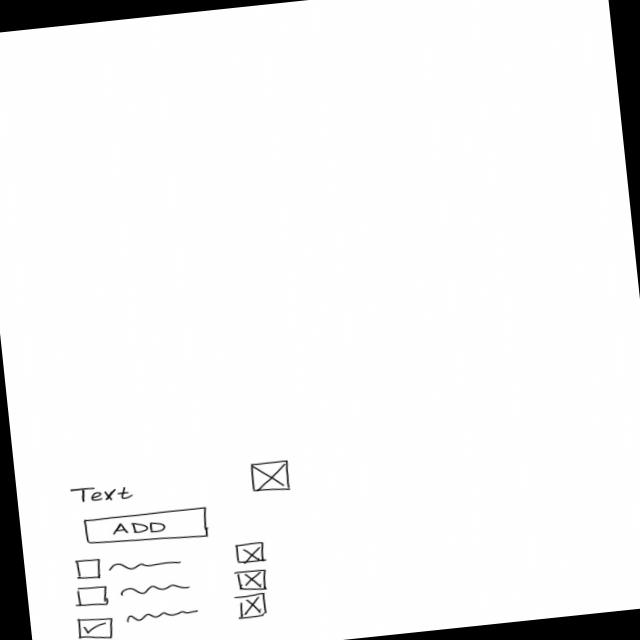button: (82, 505, 210, 550)
checkbox: (74, 604, 204, 640), (73, 574, 192, 609), (72, 548, 184, 580)
image: (248, 458, 292, 494), (231, 538, 269, 564), (234, 567, 269, 593), (236, 592, 268, 620)
label: (68, 481, 135, 506)
